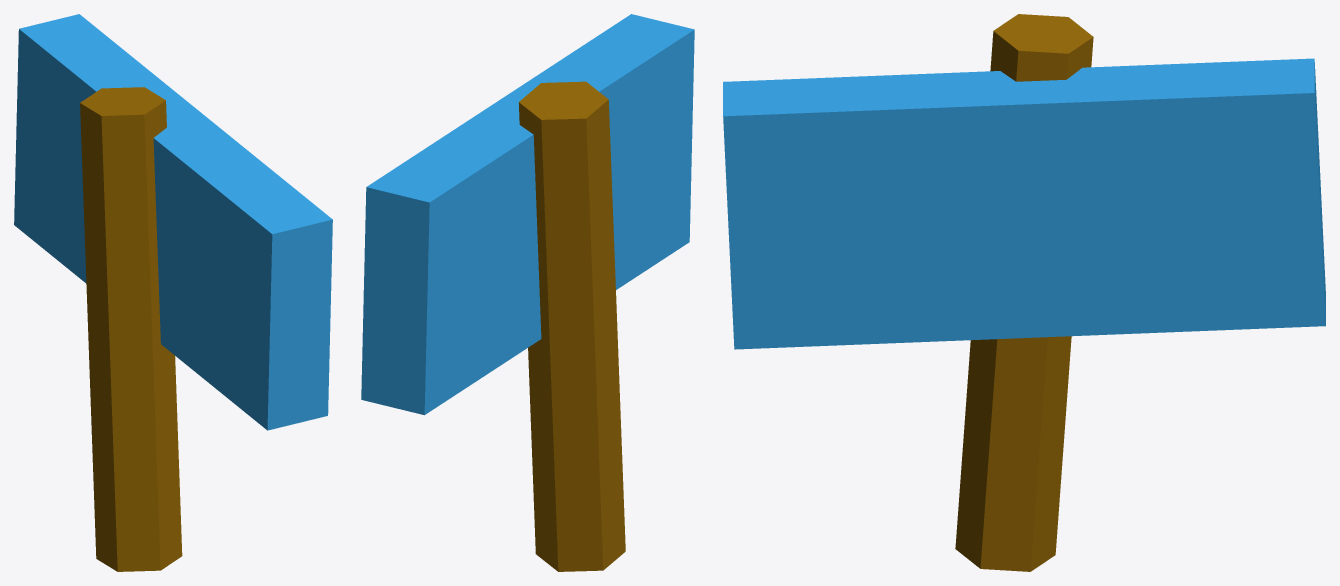
The model's file is placa2.fbx.
The picture shows the model from 3 angles, left to right: view 1: azimuth 30°, elevation 25°; view 2: azimuth 150°, elevation 25°; view 3: azimuth 270°, elevation 25°; orthographic projection. The views are drawn at different scales.
Visible parts, largest first — view 1: Cube.024; view 2: Cube.024; view 3: Cube.024.
Part boxes in pixels (<box>): Cube.024: <box>14,14,332,571</box>; Cube.024: <box>361,14,694,571</box>; Cube.024: <box>723,14,1325,571</box>.
Bounding box in the file's own units: 19.97 × 81.72 × 85.15.
